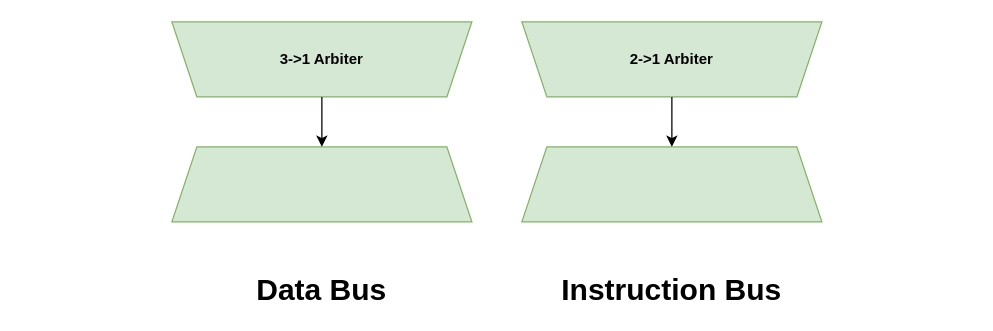
This 993x331 diagram has some shape labels left out. Here are the shapes that lost their labels. From the top down, the centre of each, then its label:
At pixel 321 184: "1->18 MUX".
At pixel 671 184: "1->4 MUX".
